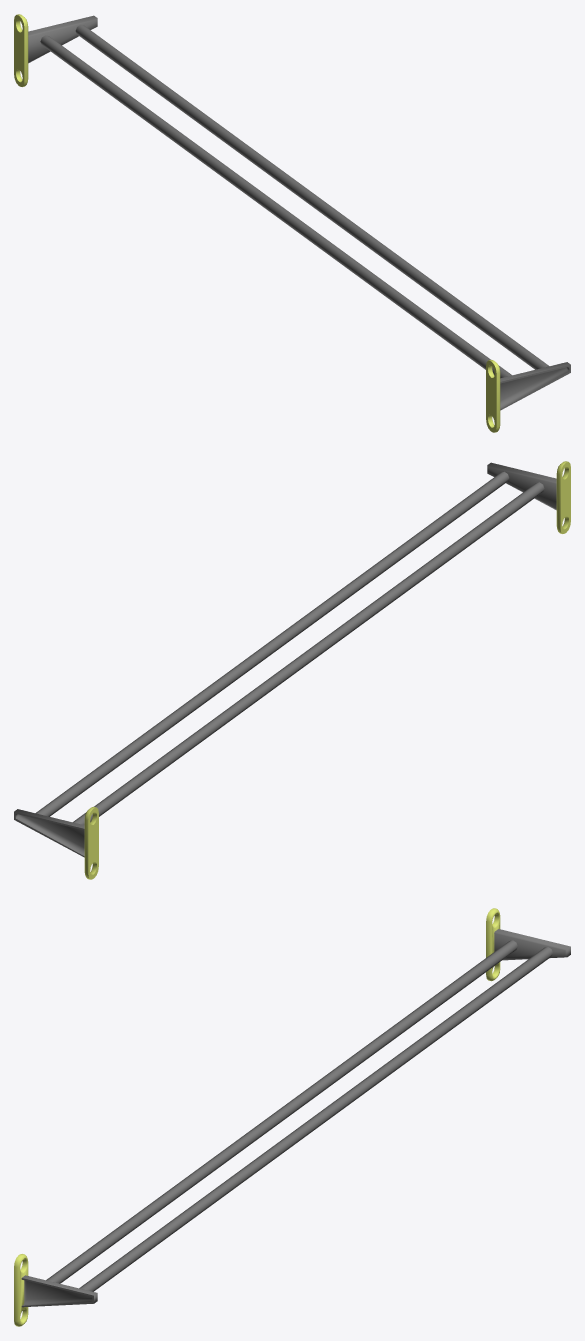
File: Curtain.fbx
3 views of the same model, one above another, from view 1: azimuth 30°, elevation 25°; view 2: azimuth 150°, elevation 25°; view 3: azimuth 330°, elevation 25° (orthographic).
Visible parts, largest first — view 1: Cube.003; view 2: Cube.003; view 3: Cube.003.
Boxes of the visible parts, box(x1,y1,x2,y2) form: Cube.003: box(14, 14, 570, 432); Cube.003: box(14, 461, 570, 879); Cube.003: box(14, 908, 570, 1326).
Size of the model in its own units: 12.59 by 10.92 by 136.
